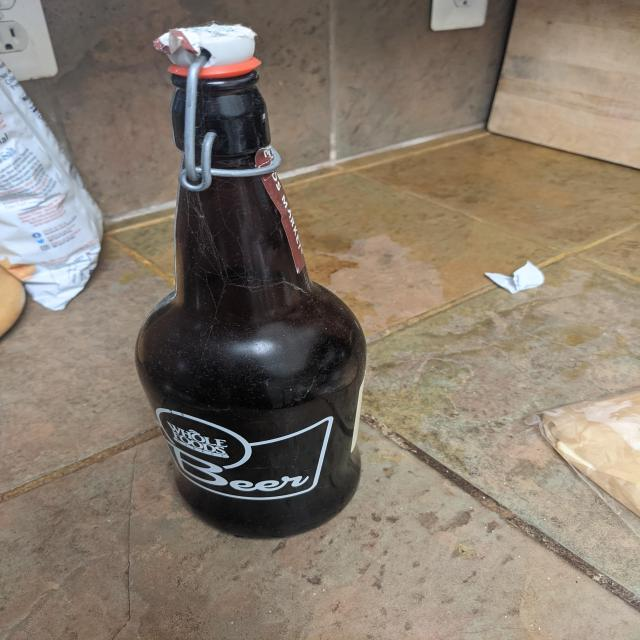litter: (133, 20, 367, 543), (483, 258, 550, 293)
